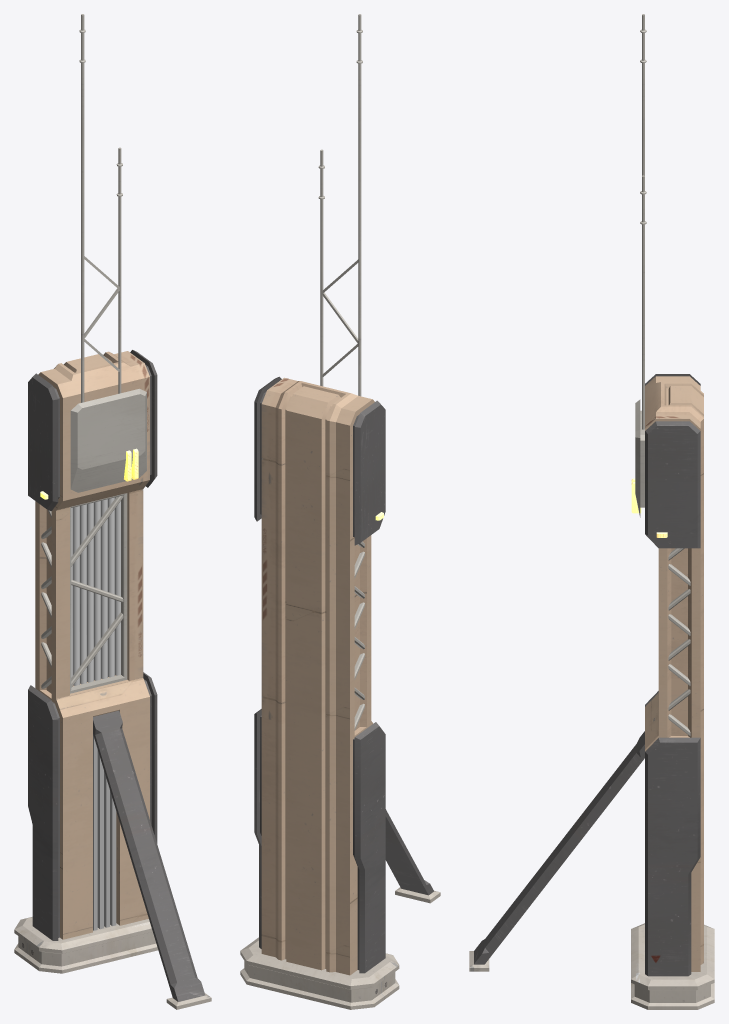
File: KB3D_CBP_Antenna_N.fbx
3 views of the same model, side by side, from view 1: azimuth 30°, elevation 25°; view 2: azimuth 150°, elevation 25°; view 3: azimuth 270°, elevation 25° (orthographic).
Parts seen in each view (by area): view 1: KB3D_CBP_Antenna_N_Main; view 2: KB3D_CBP_Antenna_N_Main; view 3: KB3D_CBP_Antenna_N_Main.
Boxes of the visible parts, box(x1,y1,x2,y2) form: KB3D_CBP_Antenna_N_Main: box(14, 14, 211, 1009); KB3D_CBP_Antenna_N_Main: box(240, 14, 440, 1009); KB3D_CBP_Antenna_N_Main: box(469, 14, 714, 1009).
Bounding box in the file's own units: 116 × 796 × 186.
